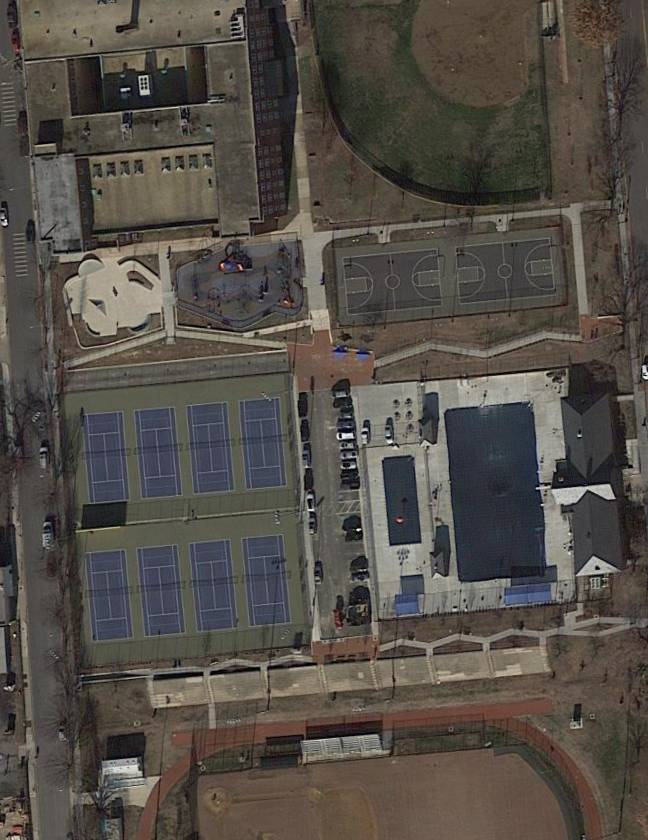baseball diamond: (410, 1, 531, 102)
basketball court: (340, 246, 445, 319), (456, 237, 558, 306)
ground track field: (132, 694, 601, 840)
tennis court: (134, 542, 189, 640), (182, 400, 237, 497), (83, 547, 136, 645), (239, 533, 293, 629), (237, 396, 290, 493), (187, 539, 241, 634), (132, 406, 186, 501), (79, 410, 132, 505)
